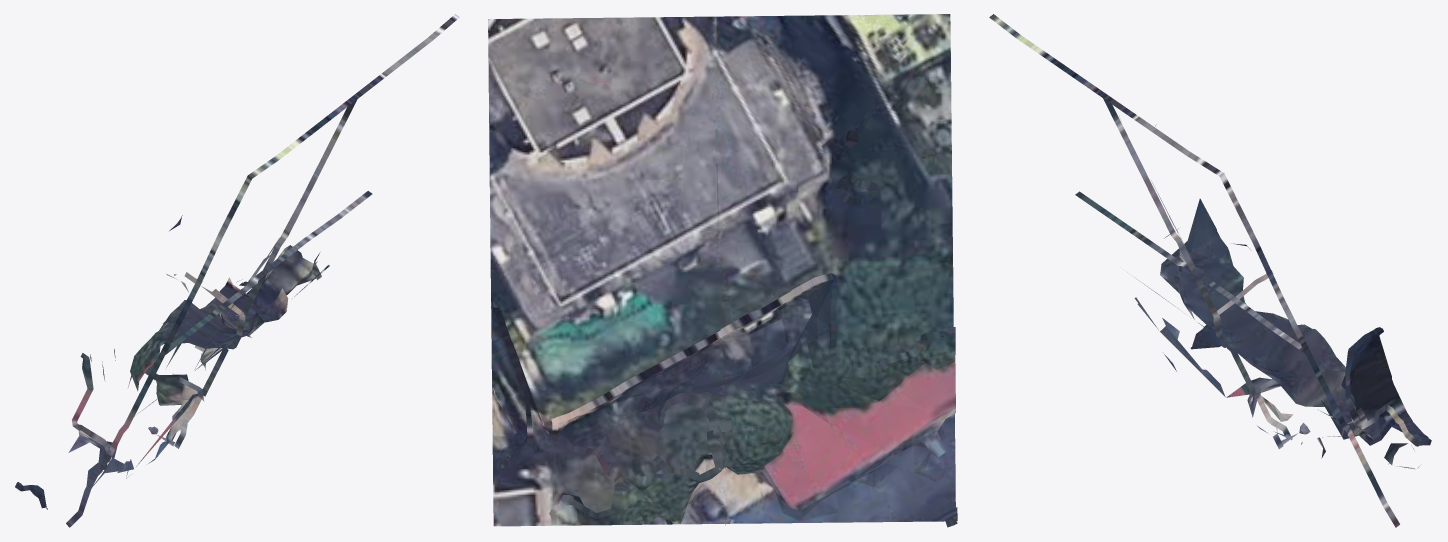
3 renders of one model, left to right at view 1: azimuth 30°, elevation 25°; view 2: azimuth 150°, elevation 25°; view 3: azimuth 270°, elevation 25°, orthographic. The views are drawn at different scales.
Bounding box in the file's own units: 40.86 × 34.67 × 34.94.
Materials: 1 (1 with a texture image).
